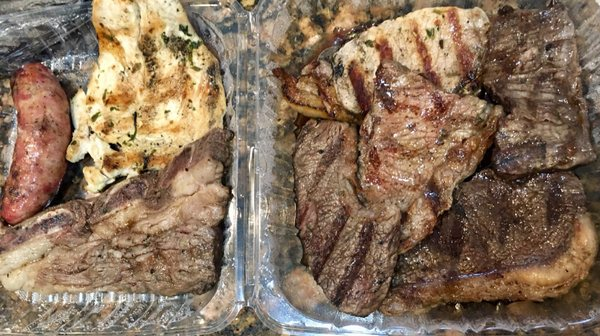burger: (0, 61, 73, 225)
